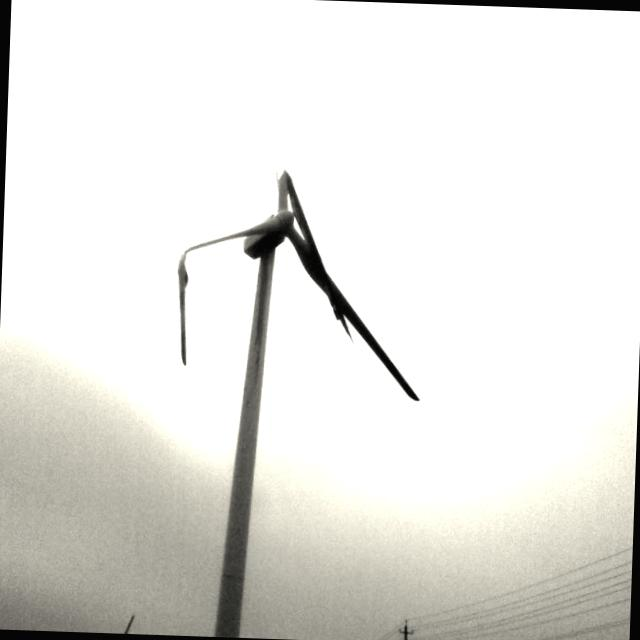crack: (262, 162, 362, 332), (170, 238, 204, 365)
